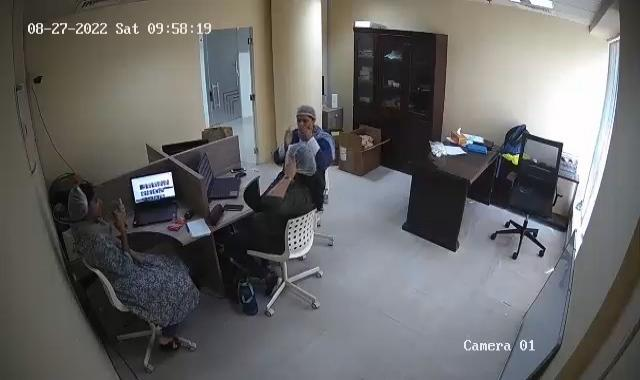hairnet: (66, 177, 100, 223), (282, 141, 316, 176), (287, 96, 320, 124)
